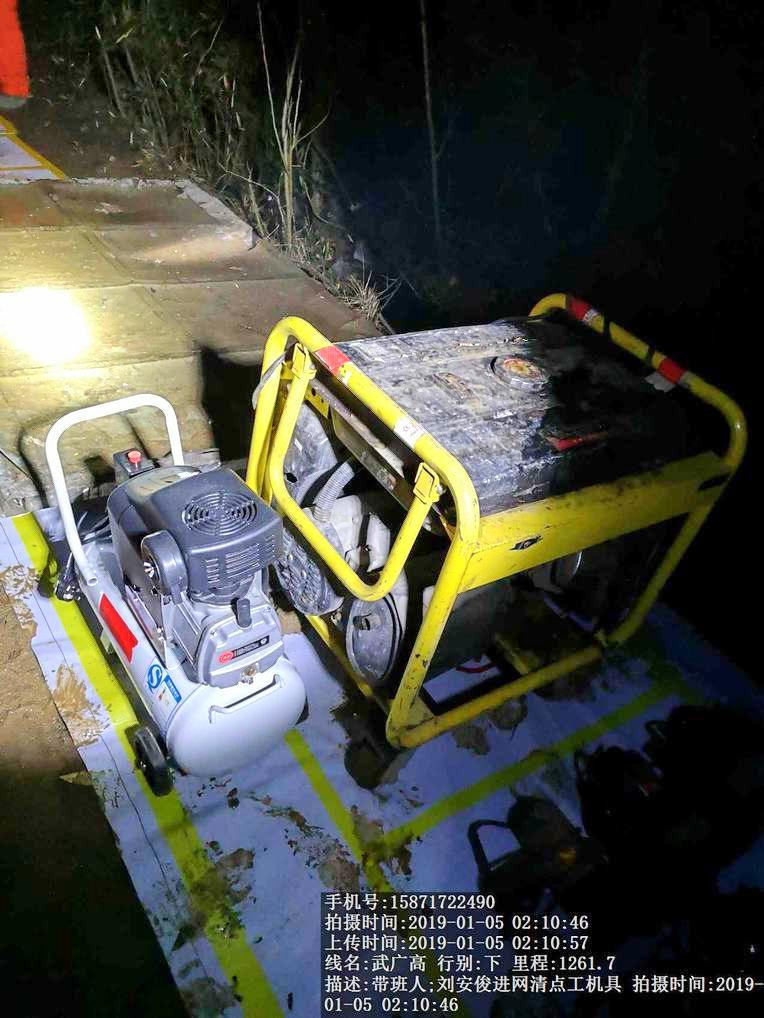DJ: (248, 300, 716, 723)
